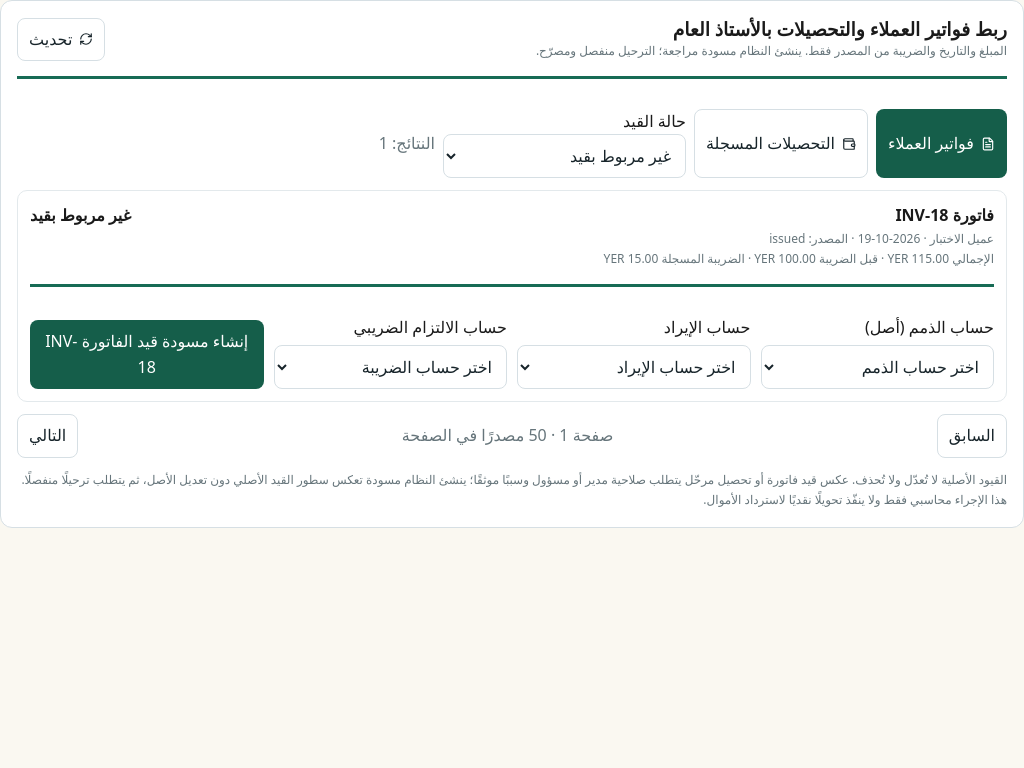
it: invoice/payment journal source integration › creates an invoice draft with explicit receivable, revenue and source-recorded tax accounts
Select "1200 — ذمم العملاء" in the dropdown named "حساب الذمم للفاتورة INV-18". click: (877, 367)
box: [760, 345, 994, 389]
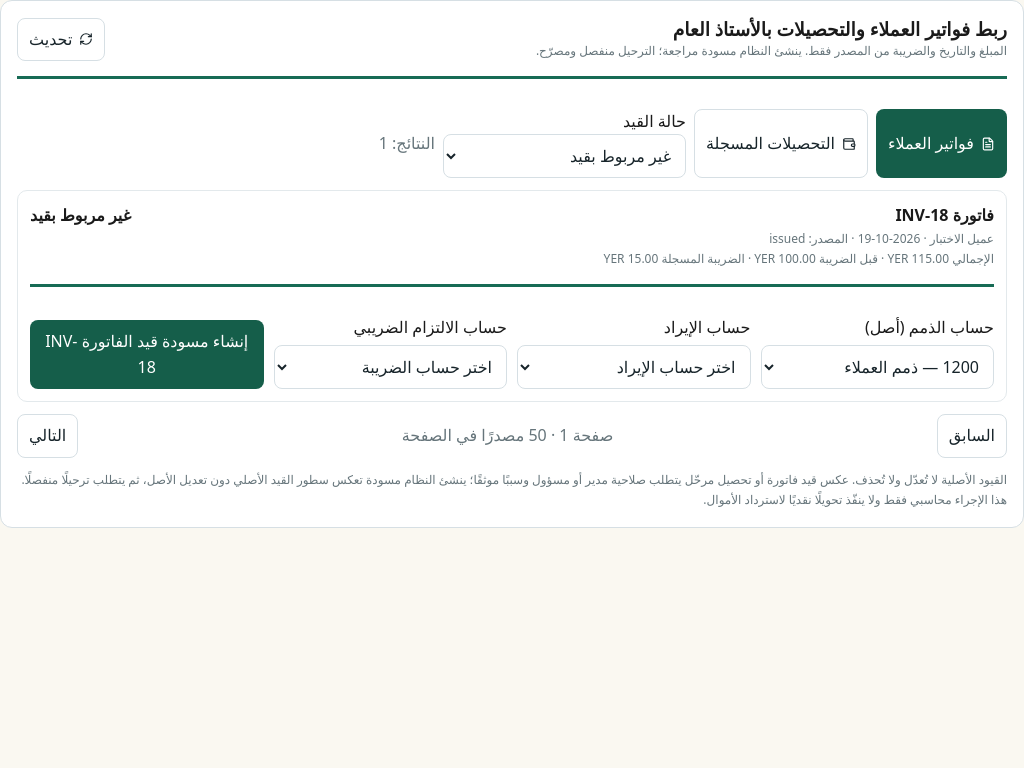
Select "4000 — إيرادات المبيعات" in the dropdown named "حساب الإيراد للفاتورة INV-18". click: (634, 367)
box: [517, 345, 750, 389]
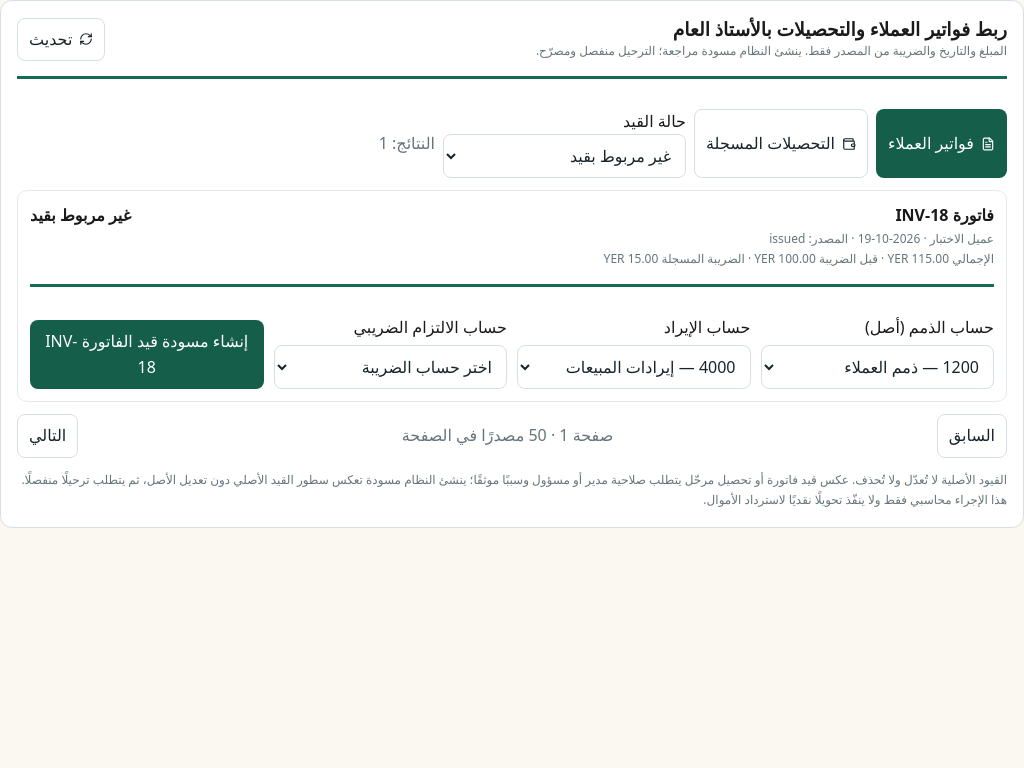
Select "2200 — ضريبة مستحقة" in the dropdown named "حساب الضريبة للفاتورة INV-18". click: (390, 367)
box: [274, 345, 507, 389]
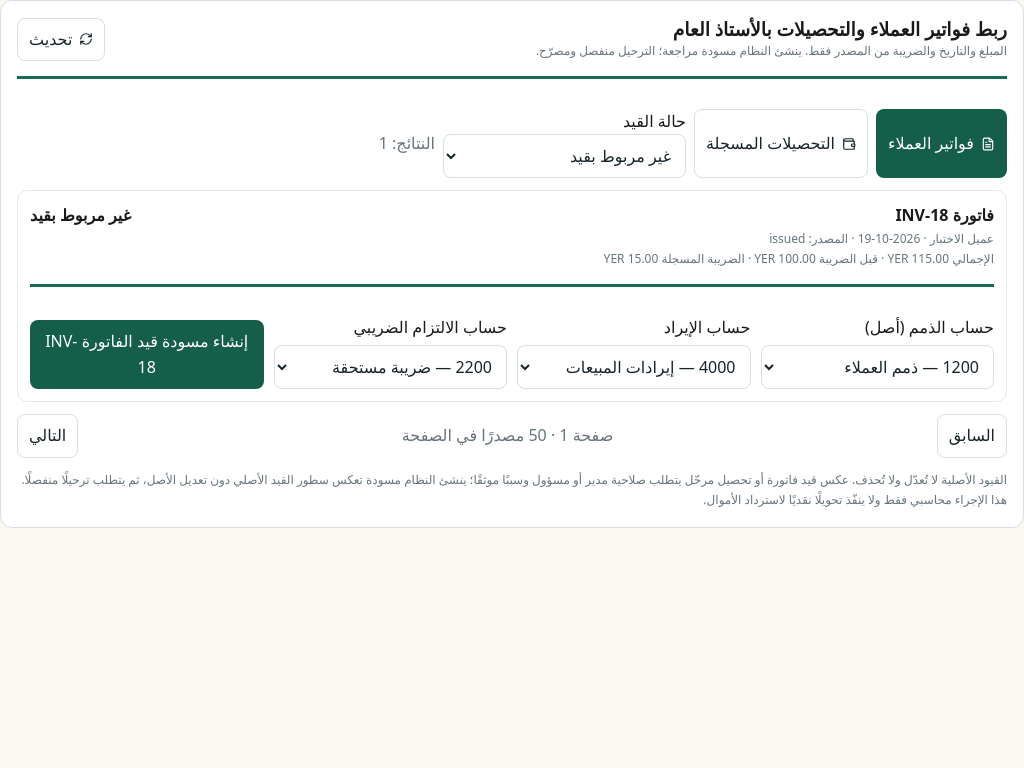
Click the button "إنشاء مسودة قيد الفاتورة INV-18". click: (147, 355)
box: [30, 320, 264, 389]
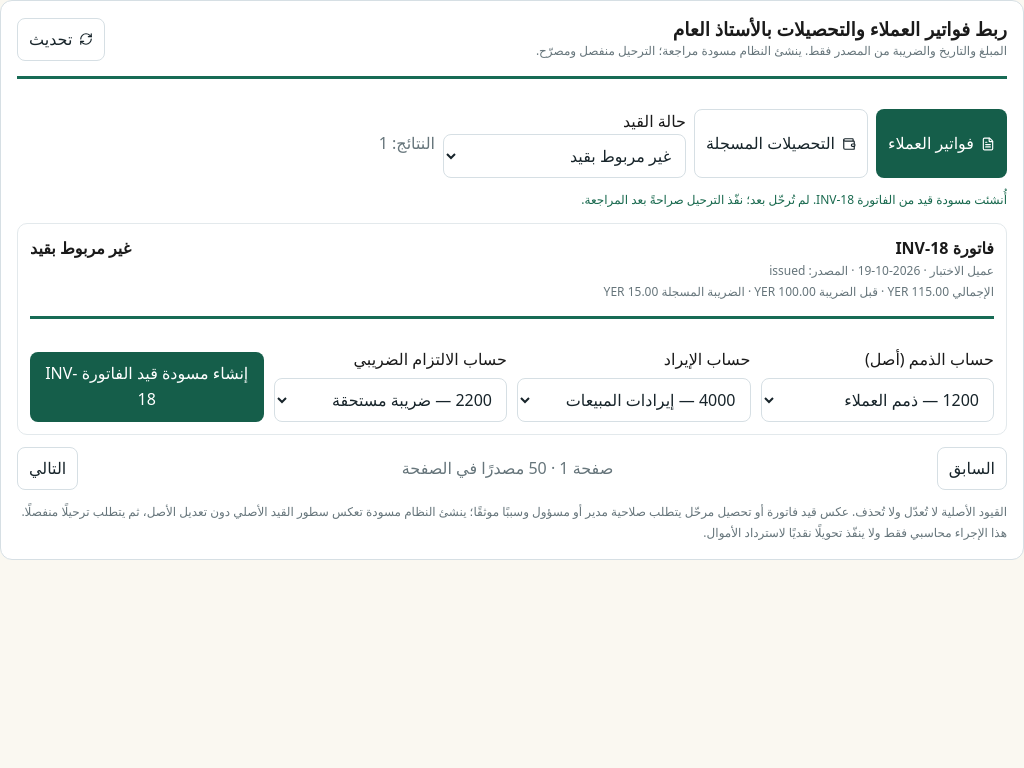
Result: the text "أُنشئت مسودة قيد من الفاتورة INV-18" is shown at [581, 191, 1007, 208]
